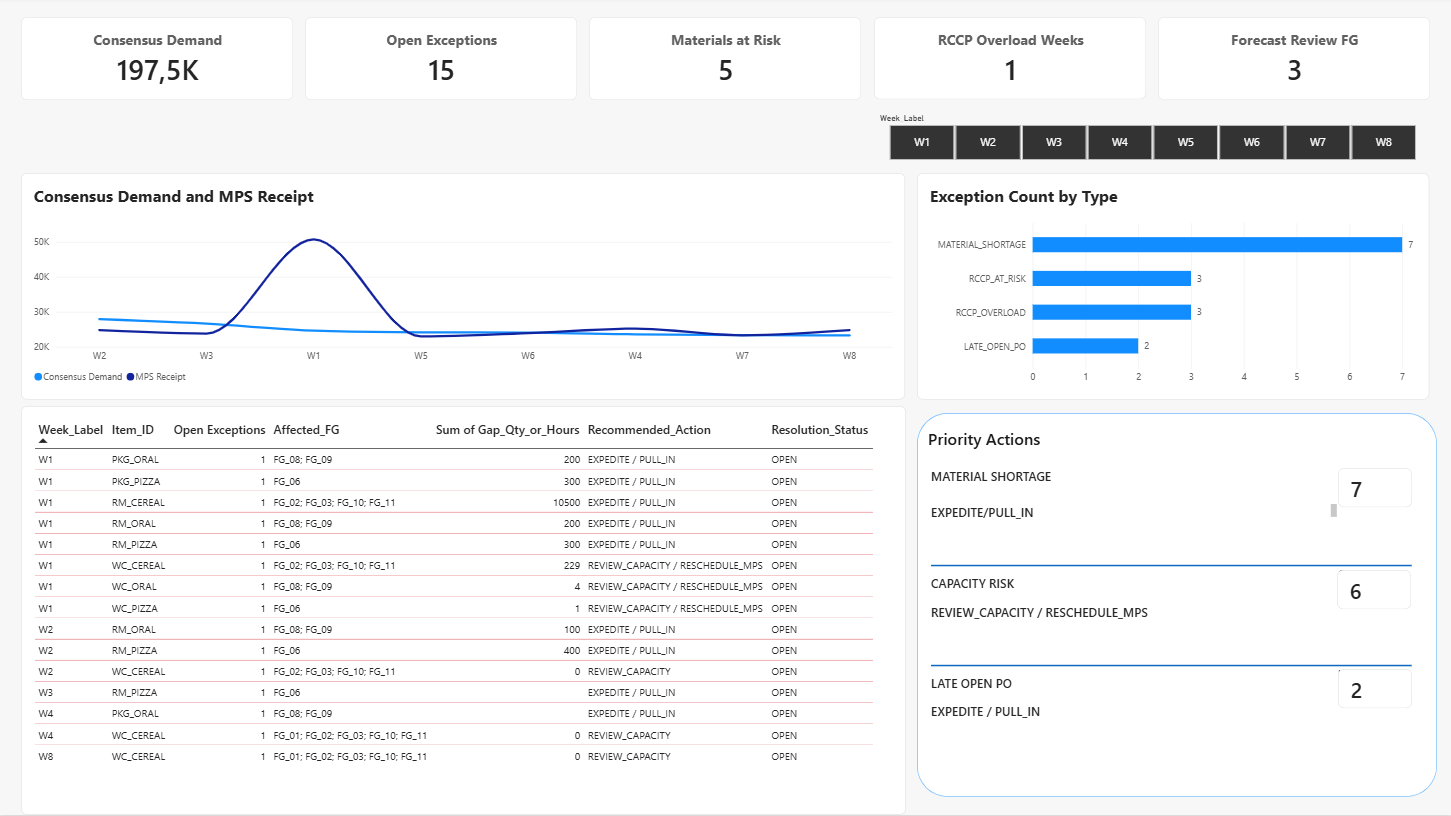

The dashboard page shown, as its layout file describes it:
{"tool":"powerbi","page":{"name":"Executive Supply Planning","canvas":[1920,1080],"ordinal":0},"visuals":[{"type":"shape","box":[1214,548,688,508],"z":0},{"type":"slicer","fields":{"Values":["Dim_Week.Week_Label"]},"box":[1156,150.7,736,64],"z":1000},{"type":"cardVisual","fields":{"Data":["Fact_Inventory.Consensus Demand"]},"box":[28,24,360,110],"z":2000},{"type":"cardVisual","fields":{"Data":["Fact_Inventory.Open Exceptions"]},"box":[404,24,360,110],"z":3000},{"type":"cardVisual","fields":{"Data":["Fact_Inventory.Materials at Risk"]},"box":[780,24,360,110.7],"z":4000},{"type":"cardVisual","fields":{"Data":["Fact_Inventory.RCCP Overload Weeks"]},"box":[1156,24,360,109.3],"z":5000},{"type":"cardVisual","fields":{"Data":["Fact_Inventory.Forecast Review FG"]},"box":[1532,24,360,110.7],"z":6000},{"type":"lineChart","title":"Consensus Demand and MPS Receipt","fields":{"Category":["Dim_Week.Week_Label"],"Y":["Fact_Inventory.Consensus Demand","Fact_Inventory.MPS Receipt"]},"box":[28,230,1170,300],"z":7000},{"type":"clusteredBarChart","title":"Exception Count by Type","fields":{"Y":["Fact_Inventory.Exception Count"],"Category":["Fact_Exceptions.Exception_Type"]},"box":[1214,230,678,300],"z":8000},{"type":"tableEx","fields":{"Values":["Dim_Week.Week_Label","Fact_Exceptions.Item_ID","Fact_Inventory.Open Exceptions","Fact_Exceptions.Affected_FG","Sum(Fact_Exceptions.Gap_Qty_or_Hours)","Fact_Exceptions.Recommended_Action","Fact_Exceptions.Resolution_Status"]},"box":[28,539,1170.7,541.3],"z":9000},{"type":"textbox","box":[1228,568,250.7,30.7],"z":10000},{"type":"textbox","box":[1232,620,300,36],"z":11000},{"type":"cardVisual","fields":{"Data":["Measure Table (DAX).Material Shortage Count"]},"box":[1770,620,98,52],"z":12000},{"type":"textbox","box":[1232,668,520,34],"z":13000},{"type":"shape","box":[1232,744,636,12],"z":14000},{"type":"textbox","box":[1670,578,250.7,30.7],"z":15000},{"type":"textbox","box":[1232,668,537.1,17.1],"z":16000},{"type":"textbox","box":[1232,762,430,28],"z":17000},{"type":"textbox","box":[1770,752,98,52],"z":18000},{"type":"textbox","box":[1232,800,560,38],"z":19000},{"type":"shape","box":[1232,876,636,12],"z":20000},{"type":"textbox","box":[1232,894,430,28],"z":21000},{"type":"textbox","box":[1770,884,98,52],"z":22000},{"type":"textbox","box":[1232,932,520,34],"z":23000},{"type":"cardVisual","fields":{"Data":["Measure Table (DAX).Capacity Risk Count"]},"box":[1768.6,755.7,98,52],"z":24000},{"type":"cardVisual","fields":{"Data":["Measure Table (DAX).Late Open PO Count"]},"box":[1770,887.1,98,52],"z":25000}]}

Visuals, with their boxes in screenshot pixels (x1, y1, x2, y2), scaled from the page's 1920x1080 canvas onto the 1451x816 screenshot:
shape: [917,414,1437,798]
slicer - Dim_Week.Week_Label: [874,114,1430,162]
cardVisual - Fact_Inventory.Consensus Demand: [21,18,293,101]
cardVisual - Fact_Inventory.Open Exceptions: [305,18,577,101]
cardVisual - Fact_Inventory.Materials at Risk: [589,18,862,102]
cardVisual - Fact_Inventory.RCCP Overload Weeks: [874,18,1146,101]
cardVisual - Fact_Inventory.Forecast Review FG: [1158,18,1430,102]
"Consensus Demand and MPS Receipt" lineChart: [21,174,905,400]
"Exception Count by Type" clusteredBarChart: [917,174,1430,400]
tableEx - Dim_Week.Week_Label x Fact_Exceptions.Item_ID: [21,407,906,815]
textbox: [928,429,1117,452]
textbox: [931,468,1158,496]
cardVisual - Measure Table (DAX).Material Shortage Count: [1338,468,1412,508]
textbox: [931,505,1324,530]
shape: [931,562,1412,571]
textbox: [1262,437,1450,460]
textbox: [931,505,1337,518]
textbox: [931,576,1256,597]
textbox: [1338,568,1412,607]
textbox: [931,604,1354,633]
shape: [931,662,1412,671]
textbox: [931,675,1256,697]
textbox: [1338,668,1412,707]
textbox: [931,704,1324,730]
cardVisual - Measure Table (DAX).Capacity Risk Count: [1337,571,1411,610]
cardVisual - Measure Table (DAX).Late Open PO Count: [1338,670,1412,710]
